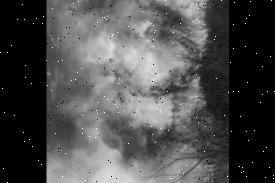fire: (106, 0, 213, 176)
